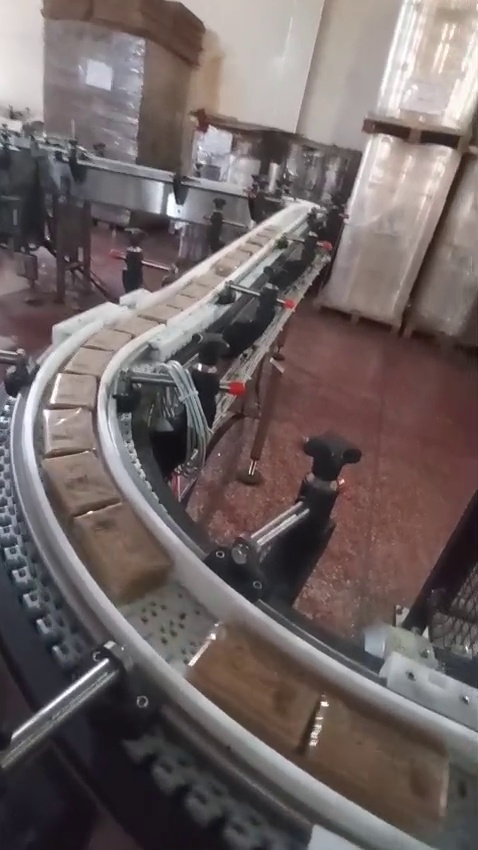savon: (190, 622, 448, 830), (54, 482, 170, 604), (146, 26, 224, 168), (440, 115, 478, 248), (396, 120, 441, 134), (356, 604, 384, 620), (112, 0, 138, 12)
